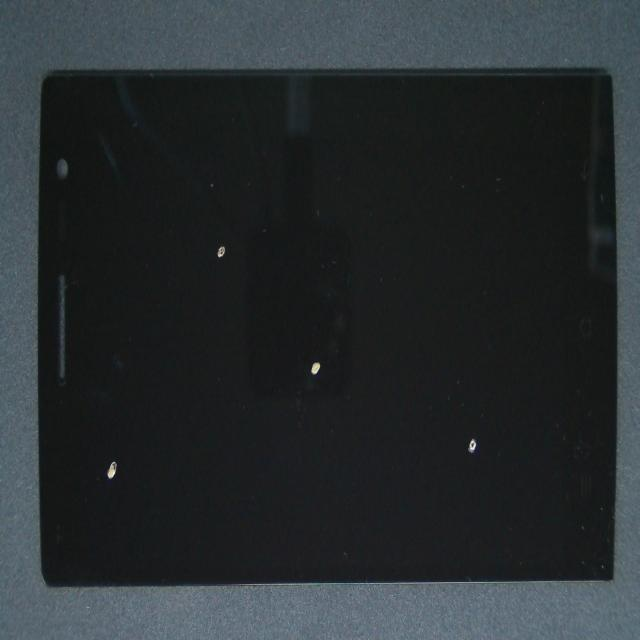stain: (205, 185, 640, 640), (118, 154, 459, 569), (117, 106, 323, 345), (64, 212, 167, 640)
